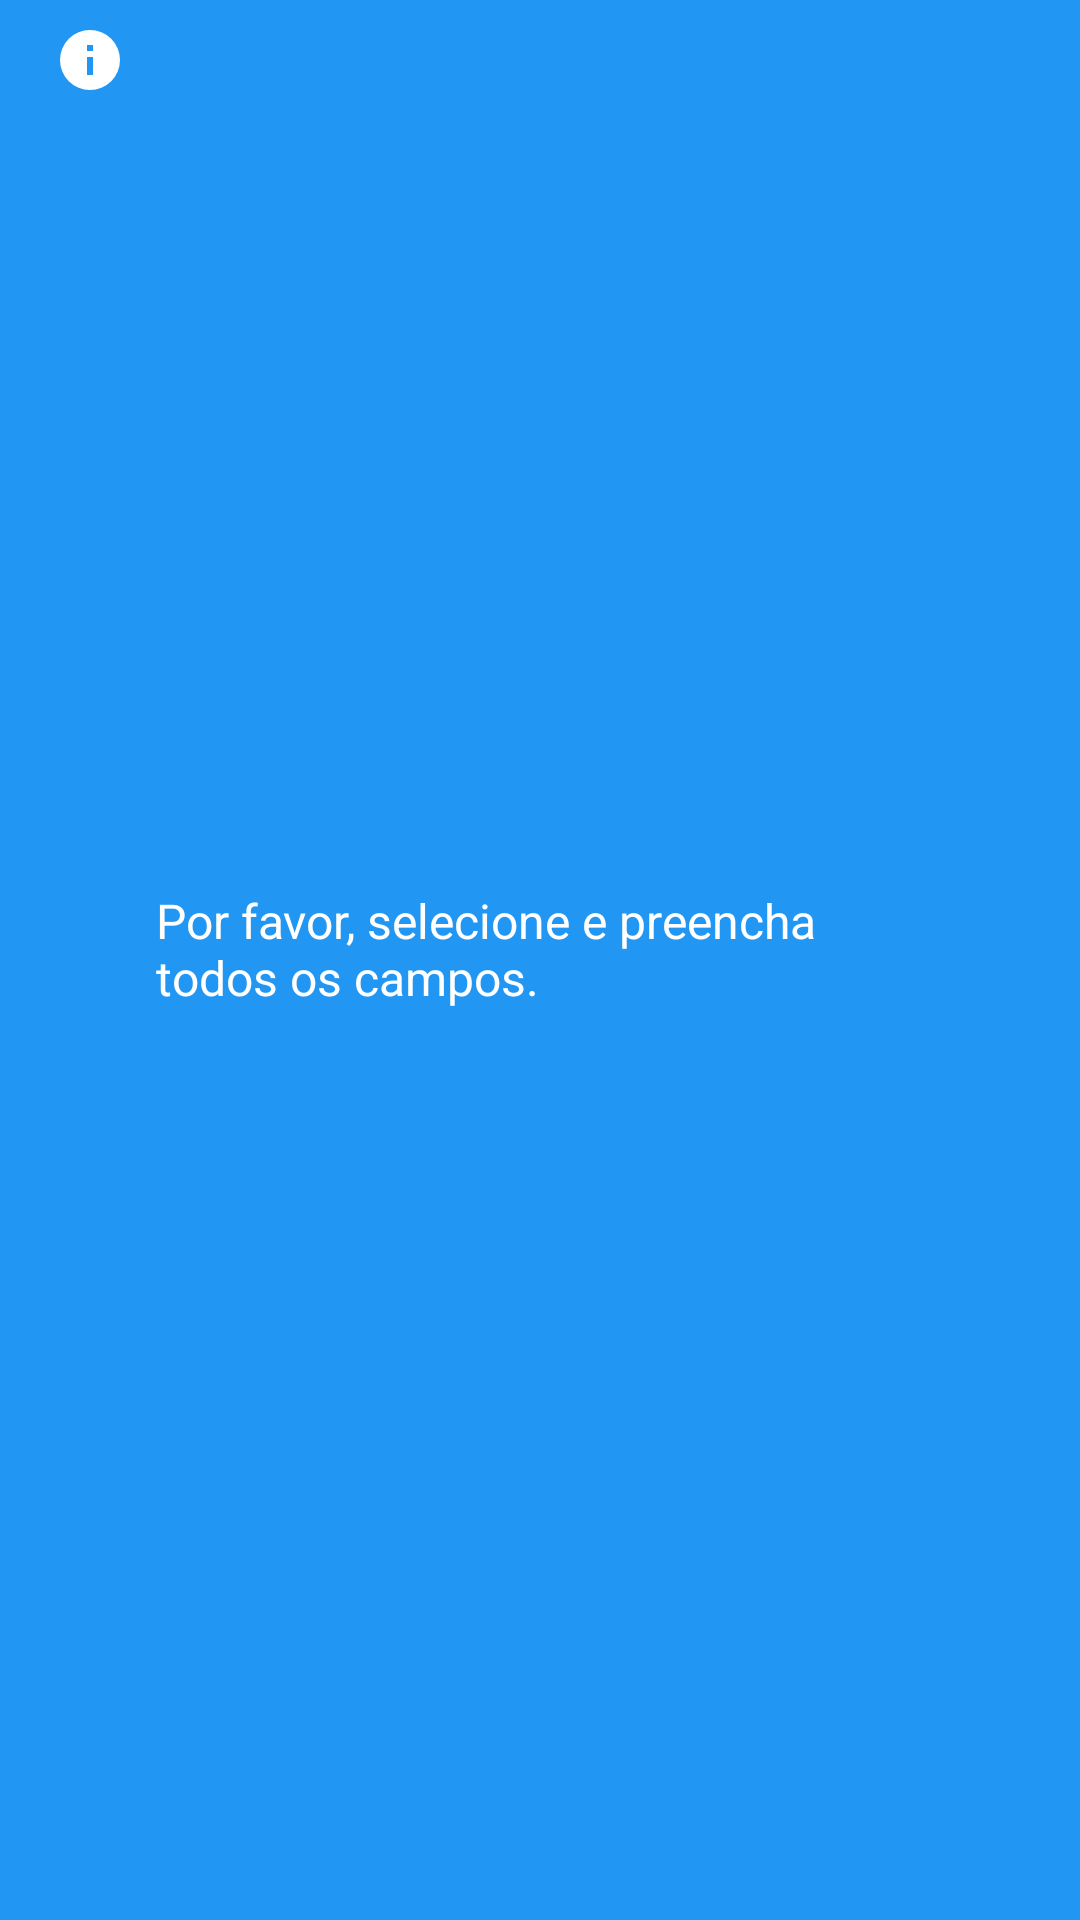

Point at icon controls on the screen. Image size 1080 x 1920, points as point (x, y).
information: point (90, 60)
